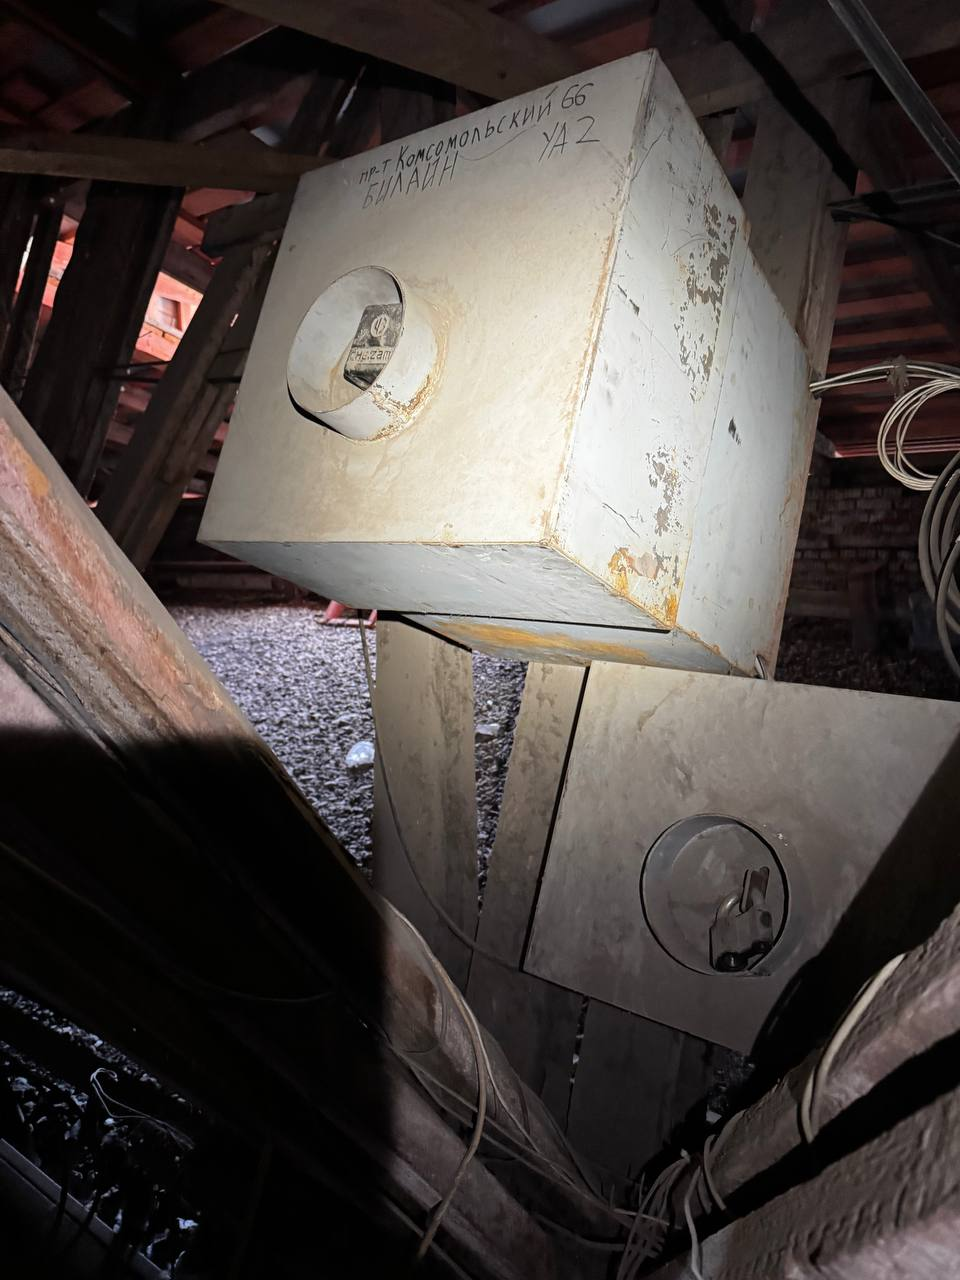shta-3: (505, 635, 951, 1073)
shta-9: (173, 35, 830, 694)
